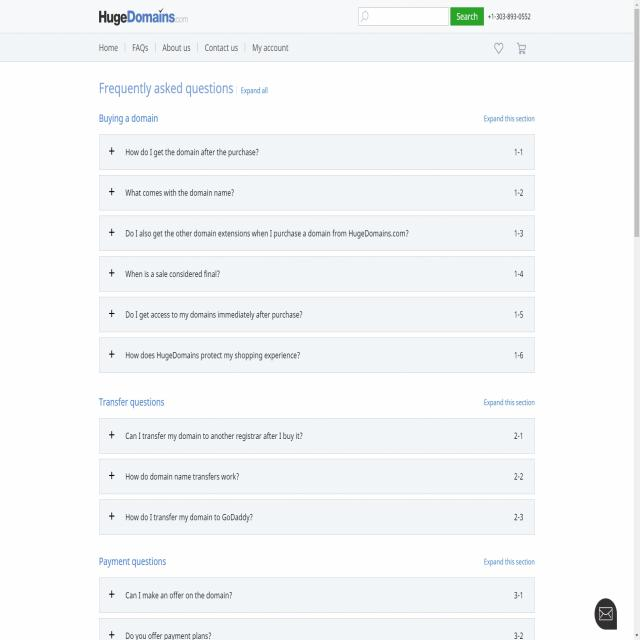menu-bar: (93, 32, 294, 62)
search: (358, 5, 484, 27)
